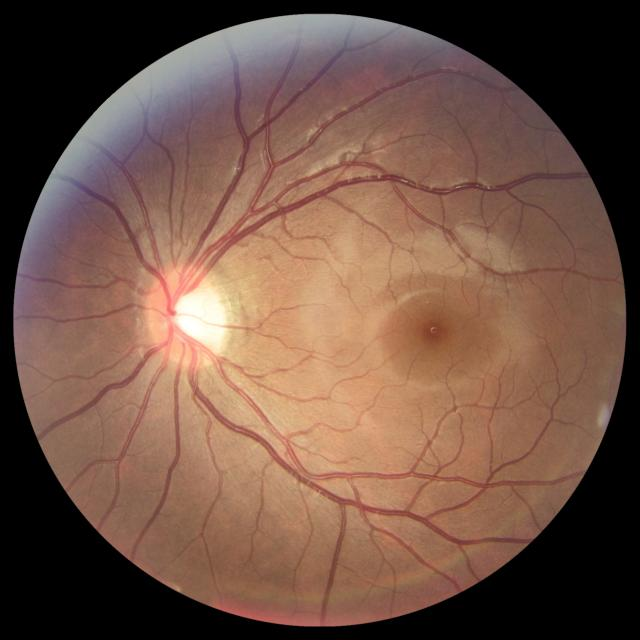OC: (168, 288, 220, 346)
OD: (145, 264, 229, 368)
